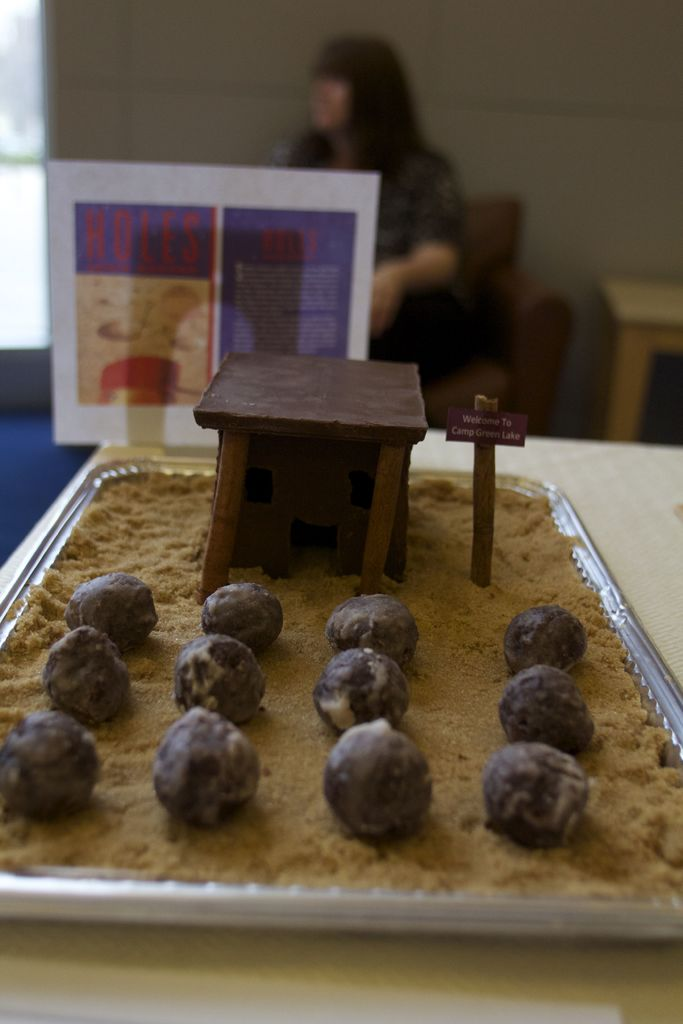Human-face: (310, 82, 358, 132)
